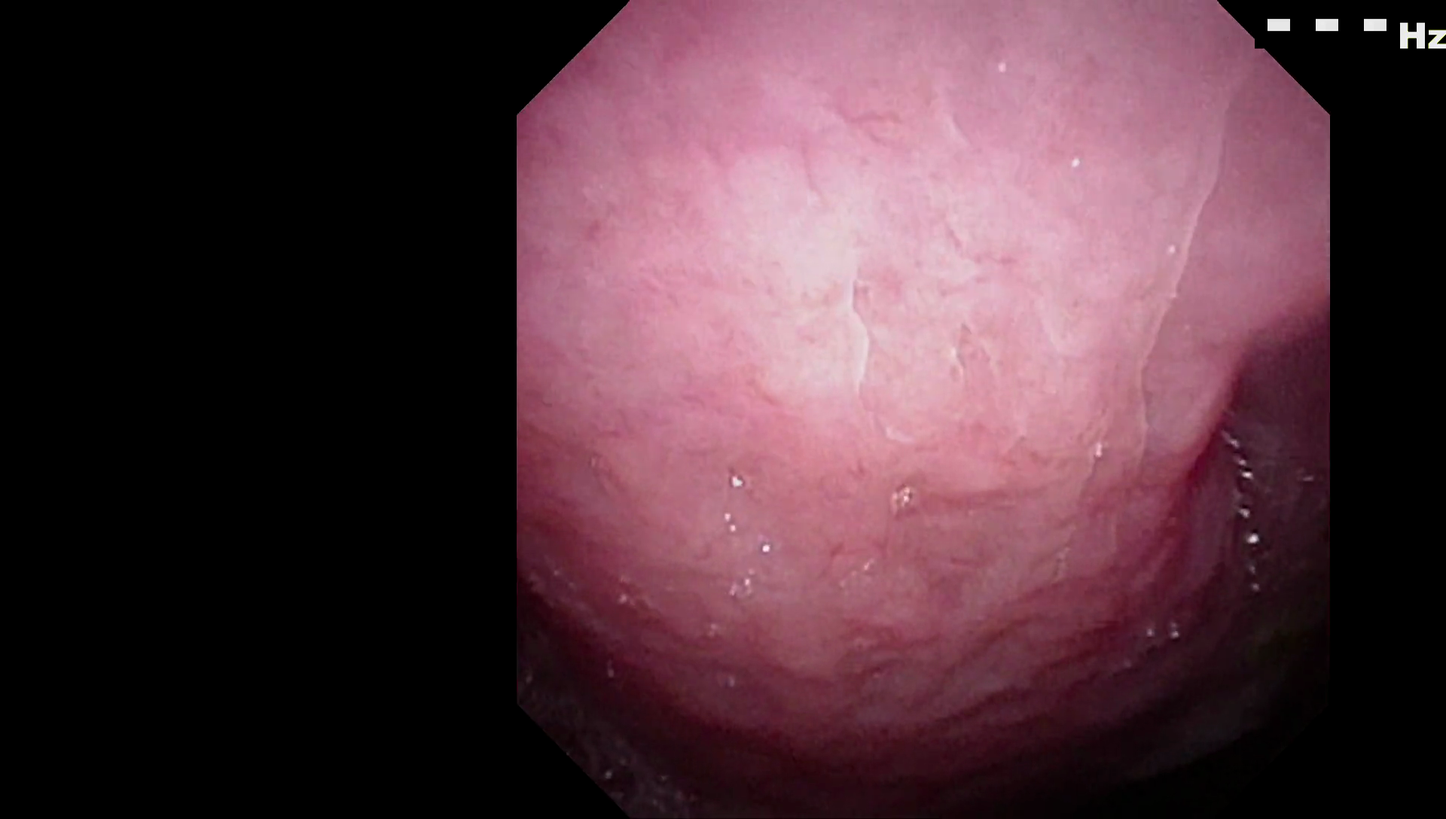close_wall: (536, 78, 1247, 514)
next: (943, 608, 1251, 819), (548, 625, 821, 819)
